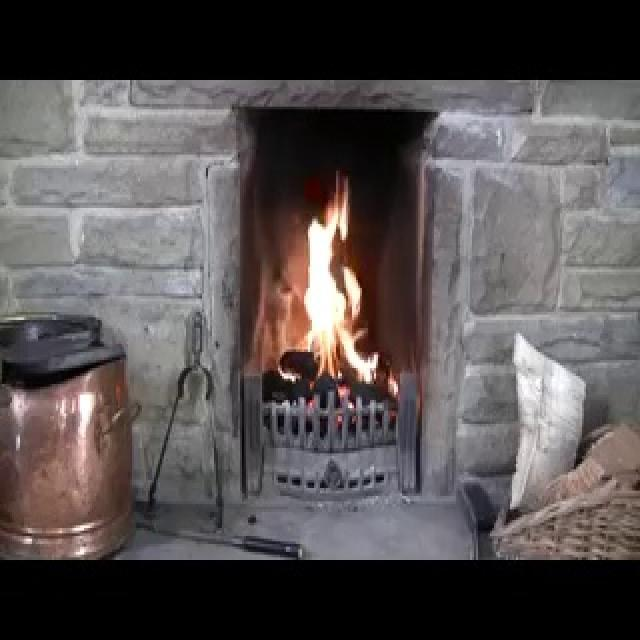Fire: (279, 168, 379, 389)
